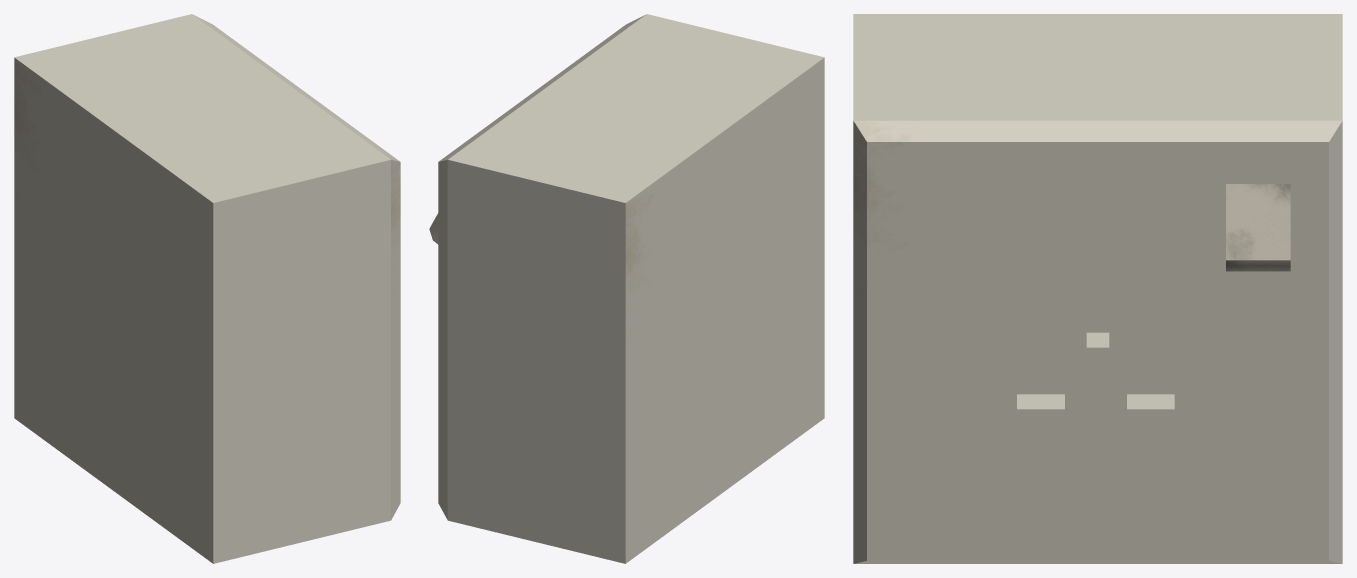
Rendered from switch2.fbx.
3 renders of one model, left to right at view 1: azimuth 30°, elevation 25°; view 2: azimuth 150°, elevation 25°; view 3: azimuth 270°, elevation 25°, orthographic. The views are drawn at different scales.
Visible parts, largest first — view 1: switch2; view 2: switch2; view 3: switch2.
Part boxes in pixels (box(x1,y1,x2,y2)): switch2: box(14, 14, 400, 563); switch2: box(429, 14, 824, 563); switch2: box(853, 14, 1342, 563).
Size of the model in its own units: 4.57 by 7.25 by 7.25.
